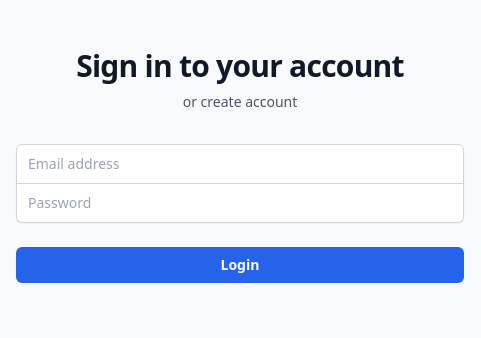
Test: LoginPage › Error Handling › displays error message on login failure
Type "test@example.com" into the field with placeholder "Email address" at {"x": 240, "y": 164}, box [16,144,464,184]
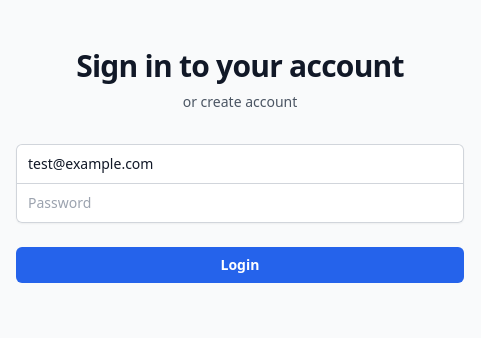
Type "wrongpassword" into the password field with placeholder "Password" at {"x": 240, "y": 202}, box [16,182,464,222]
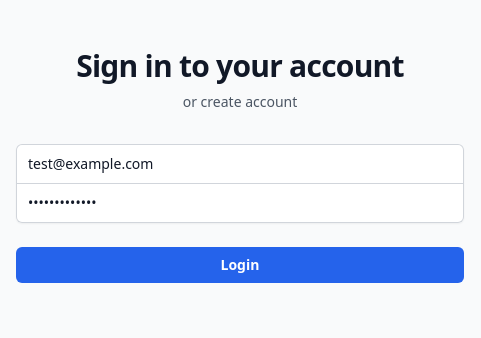
Click the button "Login" at {"x": 240, "y": 264}, box [16,246,464,282]
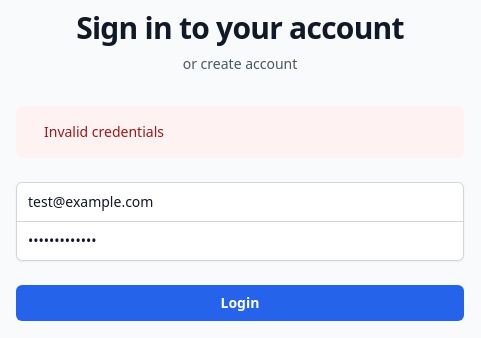
expect the heading "Invalid credentials" is shown: met, box [44,122,164,142]
